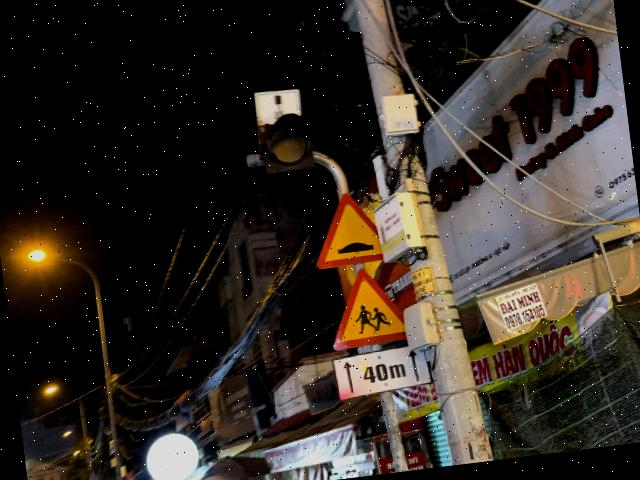duong-co-go-giam-toc: (306, 189, 384, 270)
tre-em-qua-duong: (324, 264, 406, 352)
